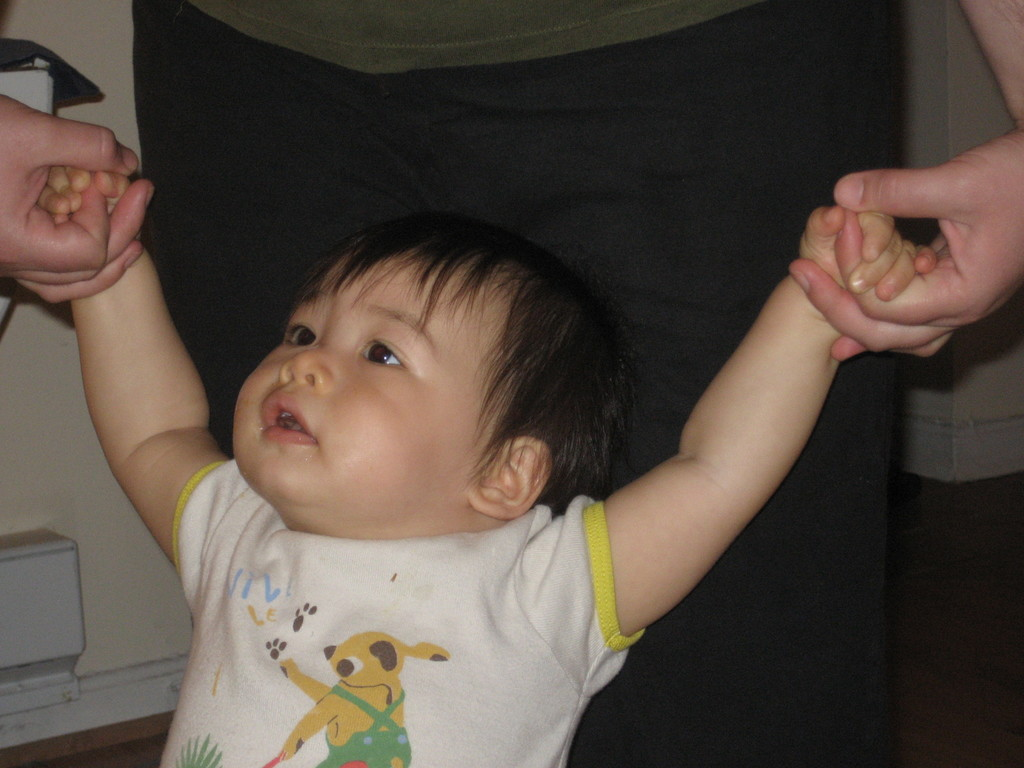Human_hand: (786, 131, 1023, 364), (0, 93, 157, 308), (796, 204, 945, 305), (32, 164, 132, 225)
